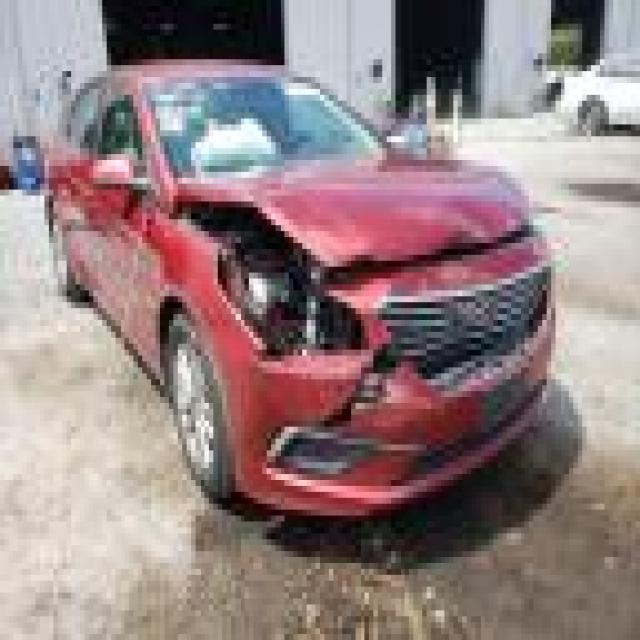moderate: (148, 173, 356, 377)
